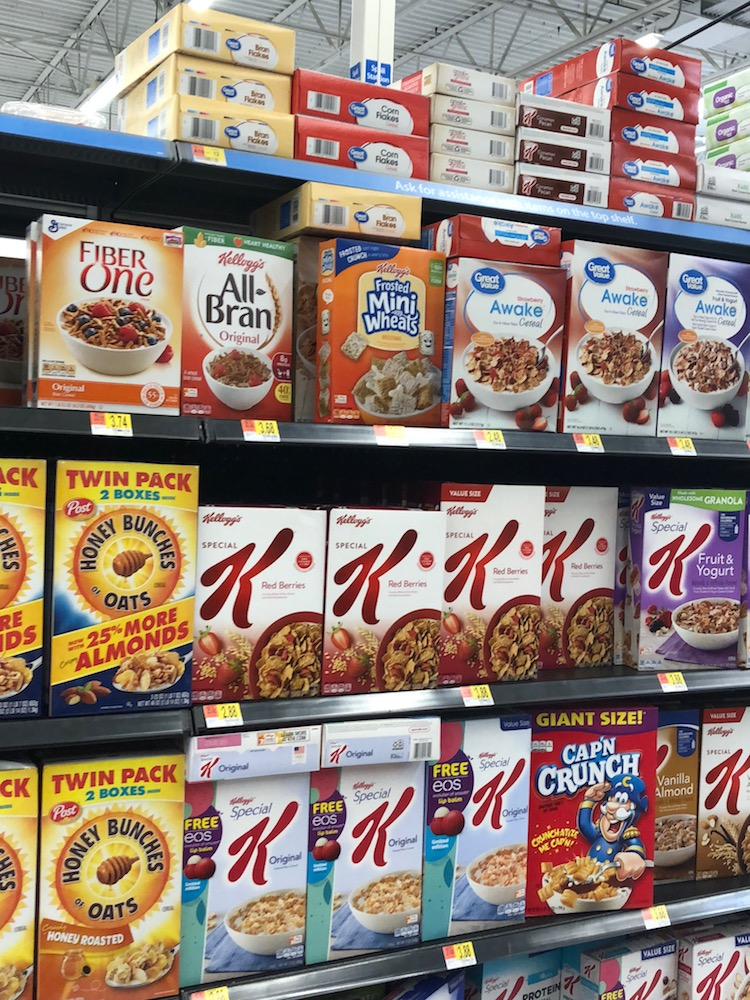Frosted Mini Original -9295869: (319, 237, 442, 426)
